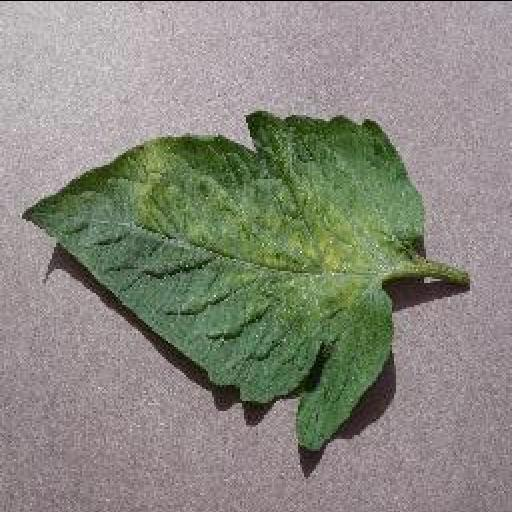disease_tomato: (18, 112, 428, 450)
